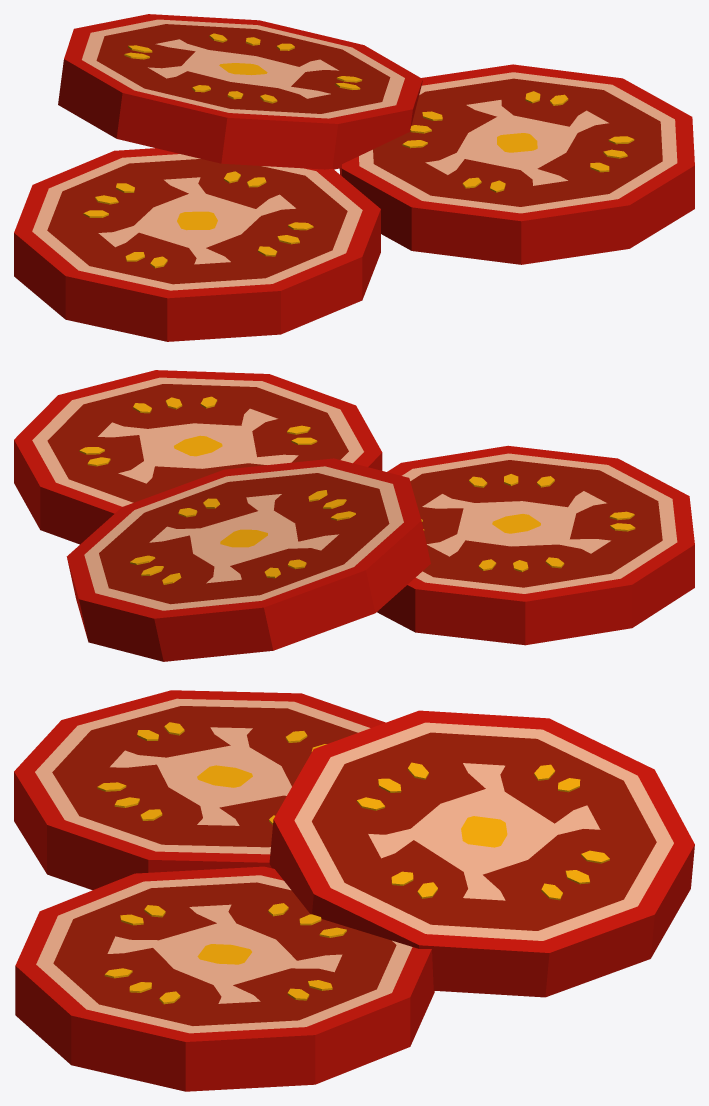
Rendered from Chopped tomato.fbx.
3 renders of one model, top to bottom at view 1: azimuth 30°, elevation 25°; view 2: azimuth 150°, elevation 25°; view 3: azimuth 270°, elevation 25°, orthographic. The views are drawn at different scales.
Parts seen in each view (by area): view 1: Sliced Tomato; view 2: Sliced Tomato; view 3: Sliced Tomato.
Boxes of the visible parts, box(x1,y1,x2,y2) form: Sliced Tomato: box(14, 14, 694, 341); Sliced Tomato: box(14, 370, 694, 661); Sliced Tomato: box(14, 690, 694, 1091).
Bounding box in the file's own units: 75.52 × 61.78 × 12.52.
